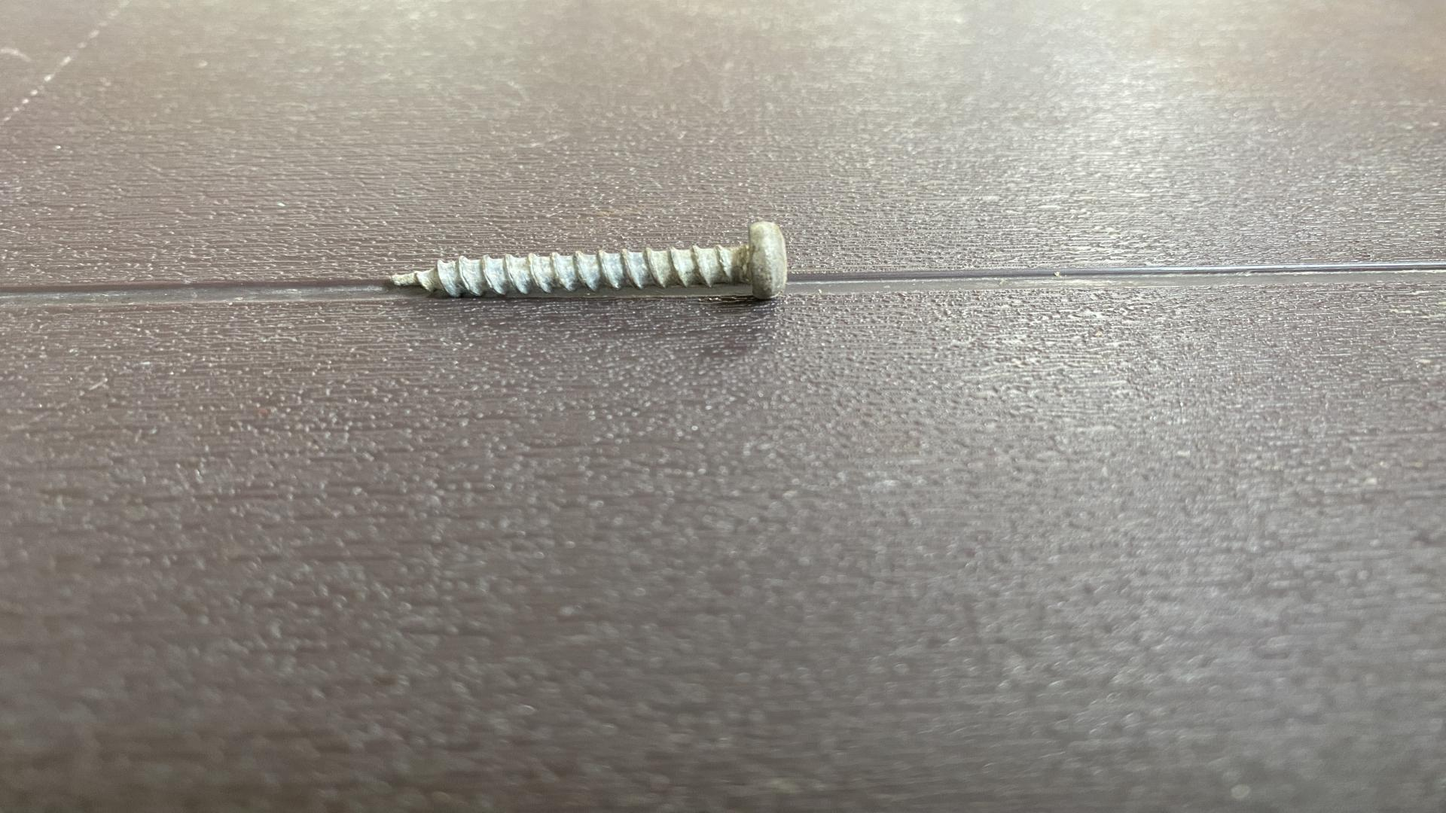screw: (350, 214, 873, 354)
